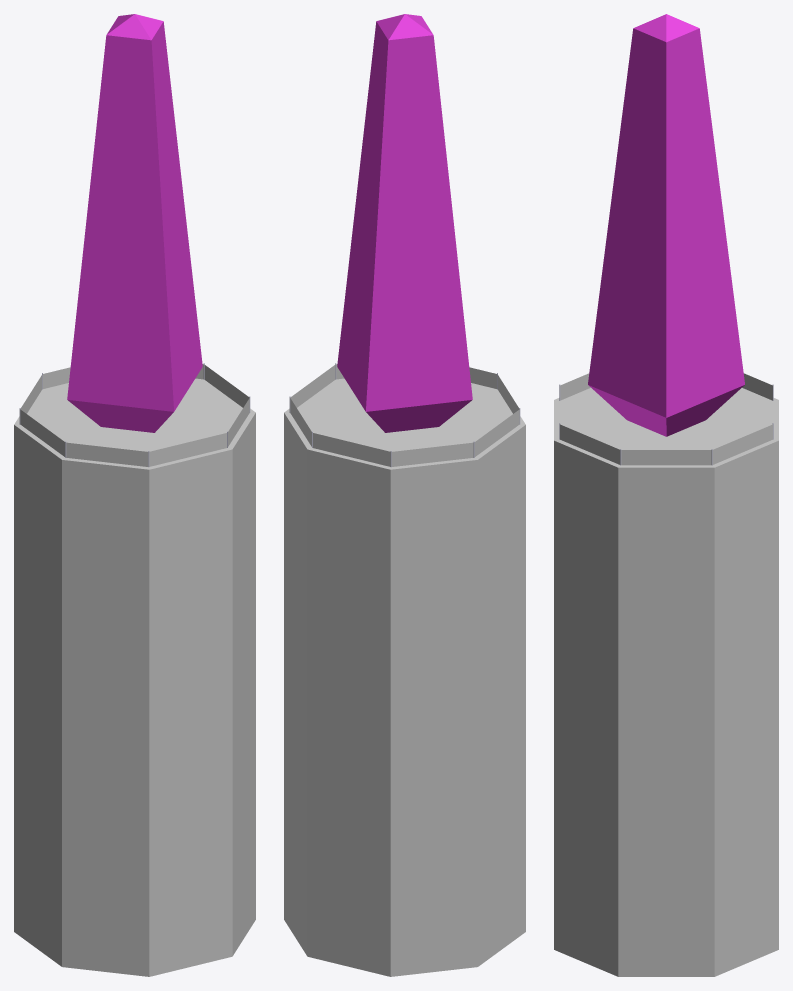
The model's file is obelisk_lod3.dae.
The picture shows the model from 3 angles, left to right: view 1: azimuth 30°, elevation 25°; view 2: azimuth 150°, elevation 25°; view 3: azimuth 270°, elevation 25°; orthographic projection.
Visible parts, largest first — view 1: bld_base2_004; view 2: bld_base2_004; view 3: bld_base2_004.
Boxes of the visible parts, bbox=[...] form: bld_base2_004: bbox=[14, 14, 255, 976]; bld_base2_004: bbox=[284, 14, 525, 976]; bld_base2_004: bbox=[554, 14, 778, 976].
Size of the model in its own units: 20 by 20 by 89.89.
